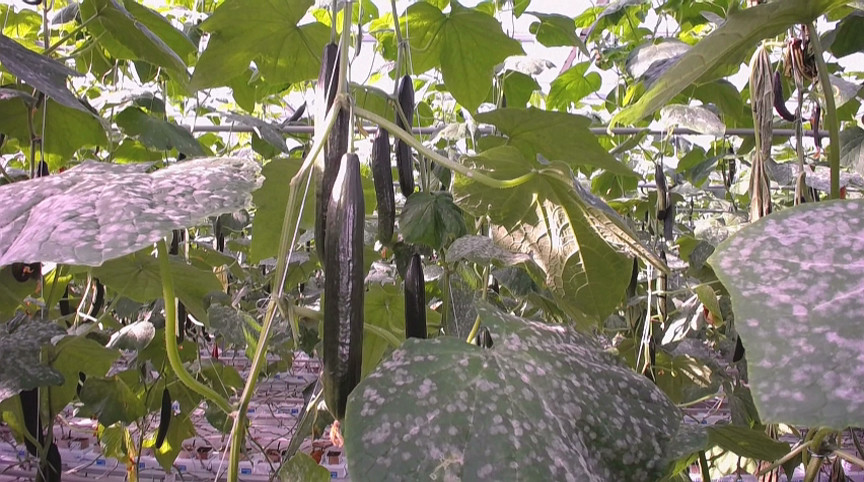cucumber: (324, 153, 365, 417), (316, 44, 348, 259), (395, 73, 417, 197), (373, 127, 393, 247), (407, 252, 427, 340), (154, 388, 171, 449)
